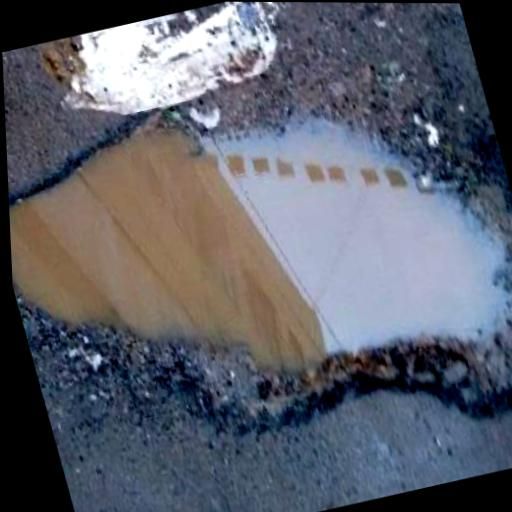pothole: (1, 32, 512, 512)
